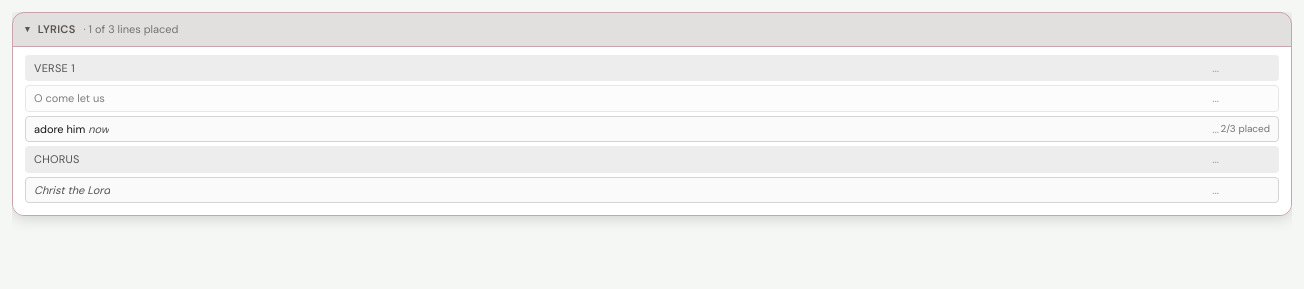
it: LyricDrawer — header correction › opens one menu at a time
The image size is (1304, 289).
Click the button "…" in the row of "Verse 1": (1216, 68) [1208,62,1223,74]
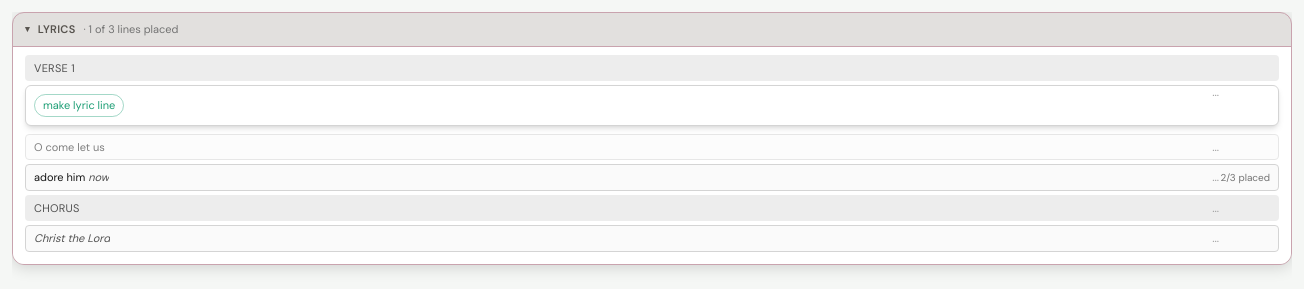
Click the 5th button "…": (1216, 238) [1208,232,1223,244]
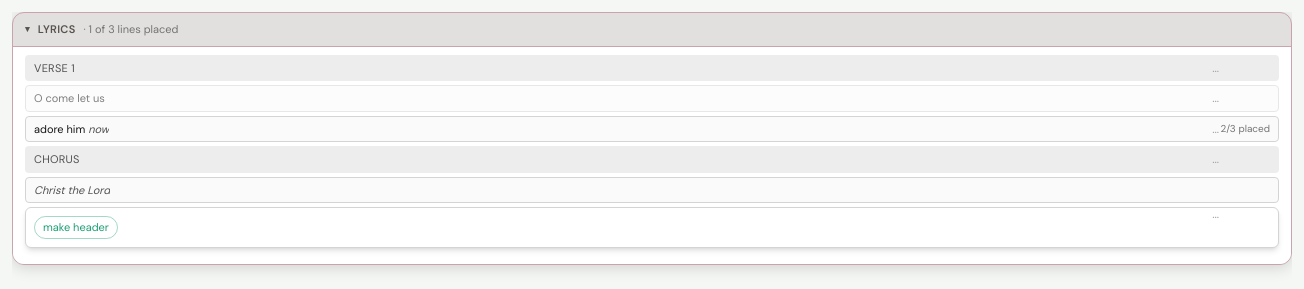
Expected: the text "make lyric line" is gone
Expected: the text "make header" is shown, [34,216,118,238]
